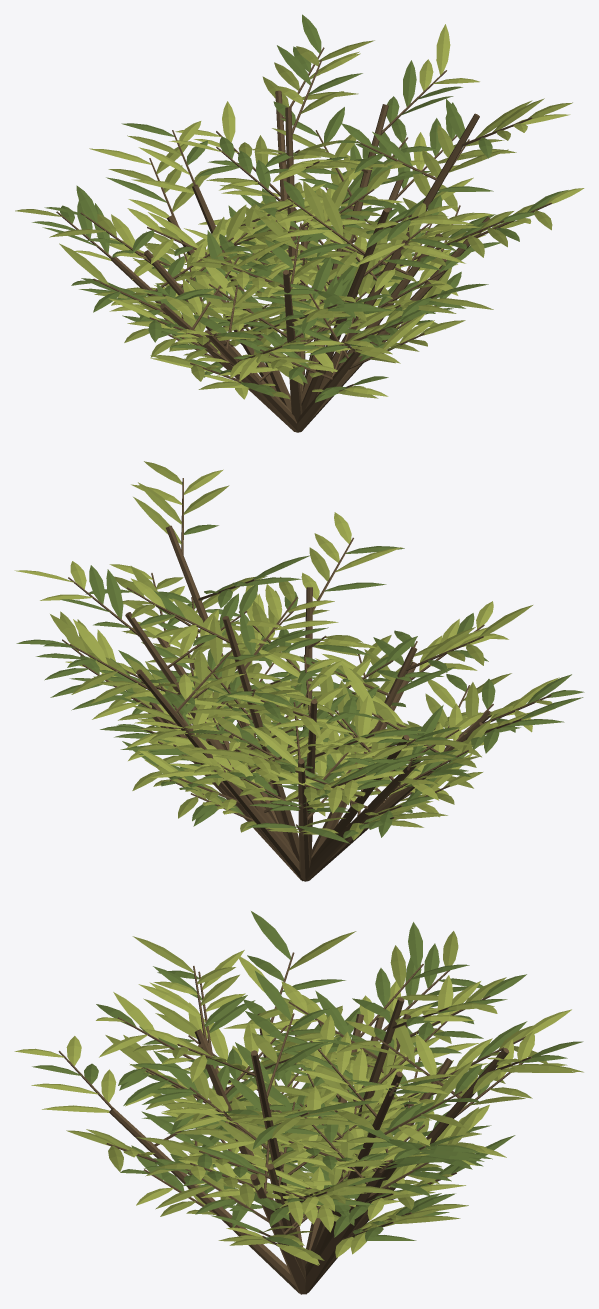
The model's file is bush_low.glb.
3 renders of one model, top to bottom at view 1: azimuth 30°, elevation 25°; view 2: azimuth 150°, elevation 25°; view 3: azimuth 270°, elevation 25°, orthographic. The views are drawn at different scales.
Visible parts, largest first — view 1: bush_low; view 2: bush_low; view 3: bush_low.
Boxes of the visible parts, x1,y1,x2,y2 form: bush_low: (15,14,584,432); bush_low: (14,461,584,881); bush_low: (14,911,583,1294).
Size of the model in its own units: 1.16 by 0.7168 by 1.06.
